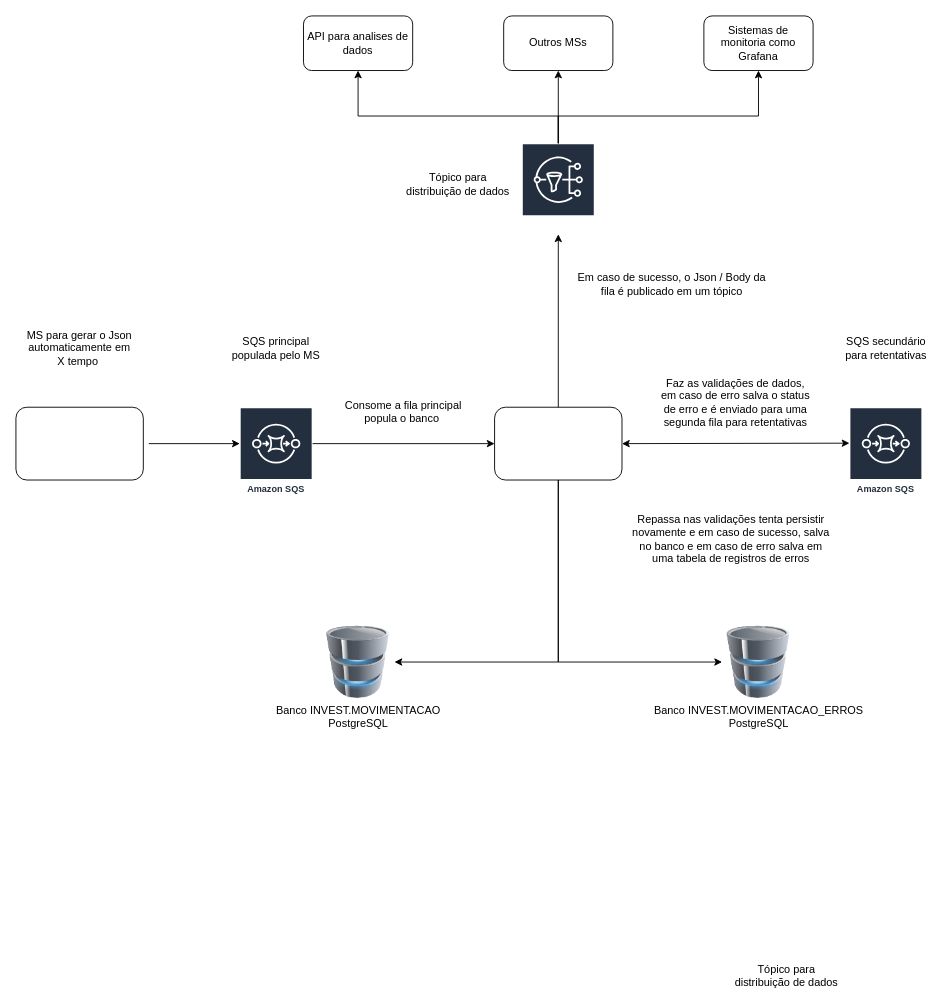
Image size: 951x1006. Some labels were removed from this diagram. The centre of each missing label's shape, as x and y in pixels:
Amazon SNS: [558,188]
Quarkus Lambda (Lambda): [558,443]
SpringBoot MS (WebFlux): [79,443]
